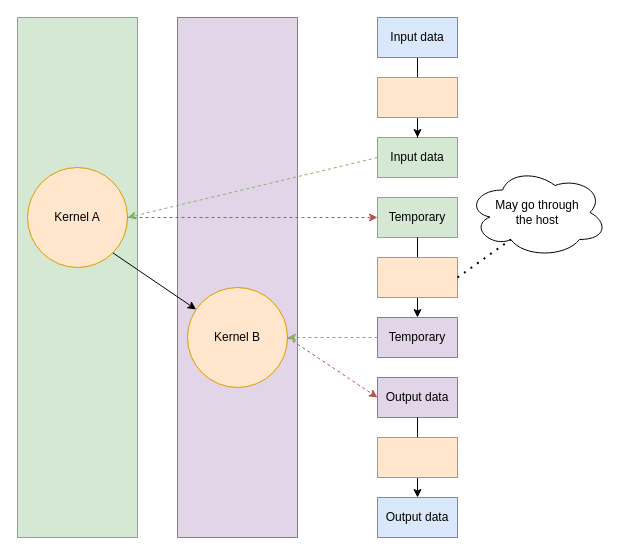
Some shapes in this 625 by 555 pixel diagram are drawn without their labels. The box of each missing label's shape, as (x1, y1, x2, y2) in pixels:
copy back to host: (376, 436, 458, 478)
copy to CPU: (376, 76, 458, 118)
copy to GPU: (376, 256, 458, 298)
CPU: (16, 16, 138, 538)
GPU: (176, 16, 298, 538)
